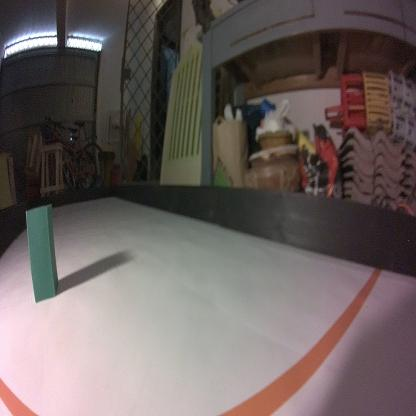green: (25, 201, 58, 304)
